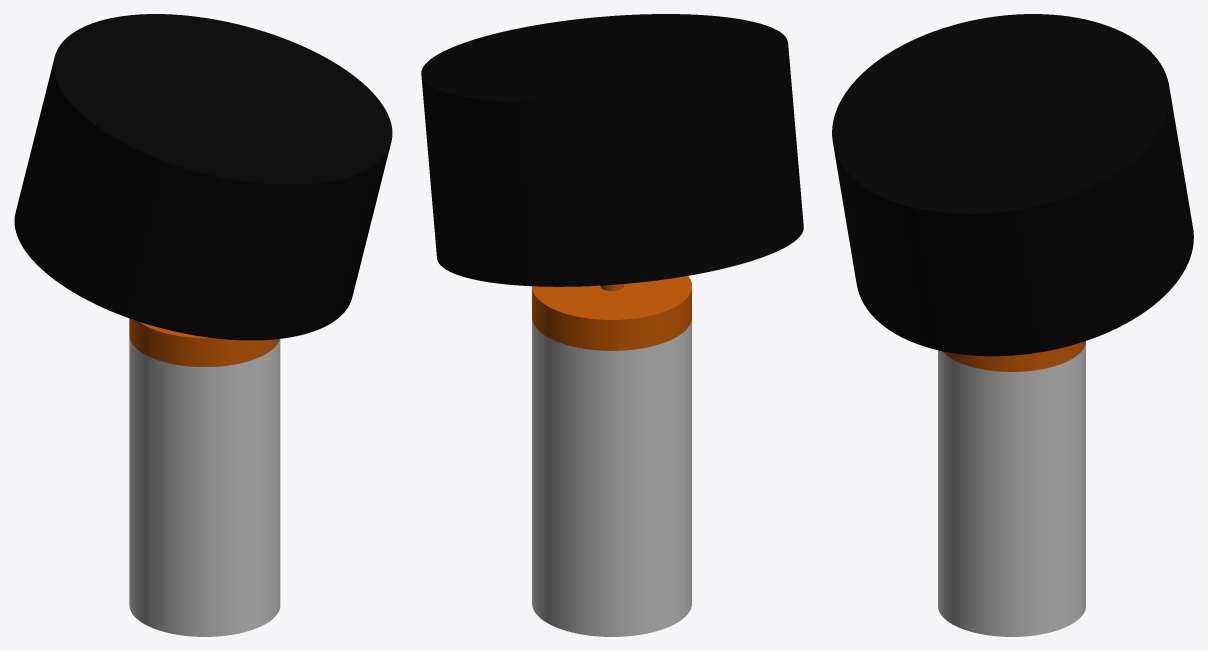
The model's file is lamp4.obj.
3 renders of one model, left to right at view 1: azimuth 30°, elevation 25°; view 2: azimuth 150°, elevation 25°; view 3: azimuth 270°, elevation 25°, orthographic. The views are drawn at different scales.
Parts seen in each view (by area): view 1: Cylinder.002, Cylinder, Cylinder.001; view 2: Cylinder.002, Cylinder, Cylinder.001; view 3: Cylinder.002, Cylinder, Cylinder.001.
Boxes of the visible parts, x1,y1,x2,y2 form: Cylinder.002: (14,14,392,340); Cylinder: (129,337,280,636); Cylinder.001: (129,318,279,366); Cylinder.002: (421,14,803,286); Cylinder: (532,319,691,636); Cylinder.001: (532,276,691,350); Cylinder.002: (832,14,1193,356); Cylinder: (938,343,1085,636); Cylinder.001: (942,341,1085,371).
Size of what is drawn, in the model's own units: 4.94 by 7.91 by 4.88.
